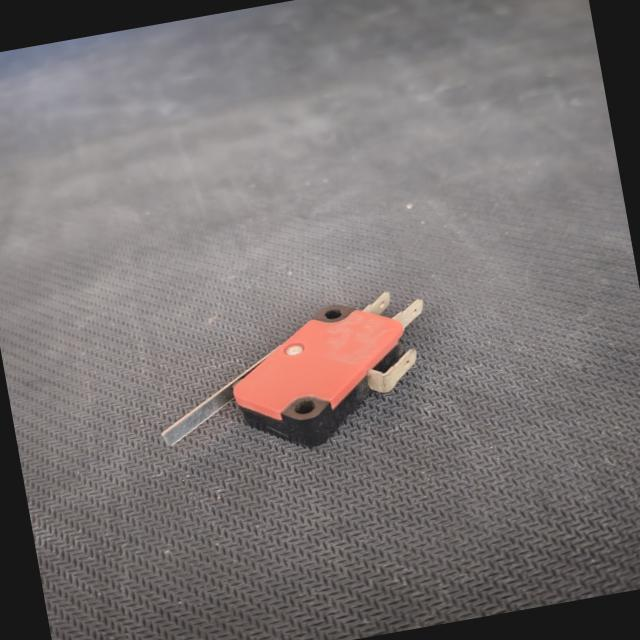switch: (132, 272, 458, 476)
